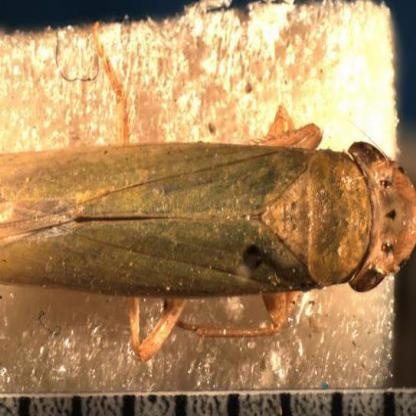Green-Leafhopper: (0, 18, 416, 361)
